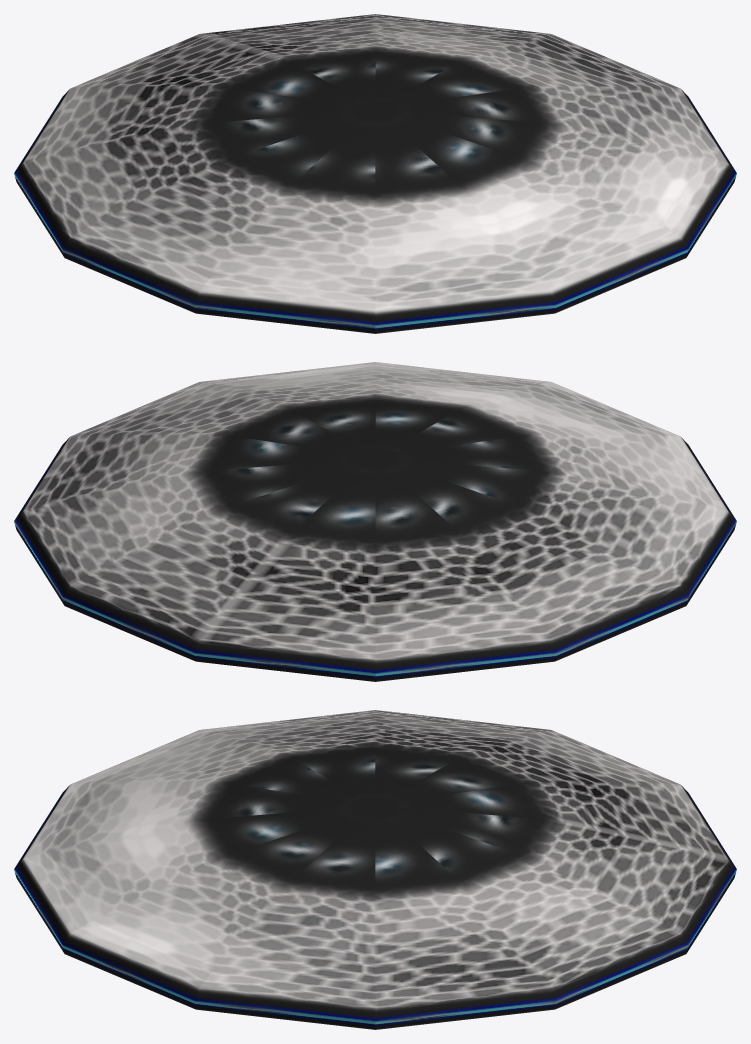
The model's file is LargeUFO.FBX.
3 renders of one model, top to bottom at view 1: azimuth 30°, elevation 25°; view 2: azimuth 150°, elevation 25°; view 3: azimuth 270°, elevation 25°, orthographic.
Parts seen in each view (by area): view 1: UFO; view 2: UFO; view 3: UFO.
Boxes of the visible parts, x1,y1,x2,y2 form: UFO: (14,14,736,333); UFO: (14,362,736,681); UFO: (14,710,736,1029).
Bounding box in the file's own units: 20 × 4.9 × 20.
Materials: 1 (1 with a texture image).
